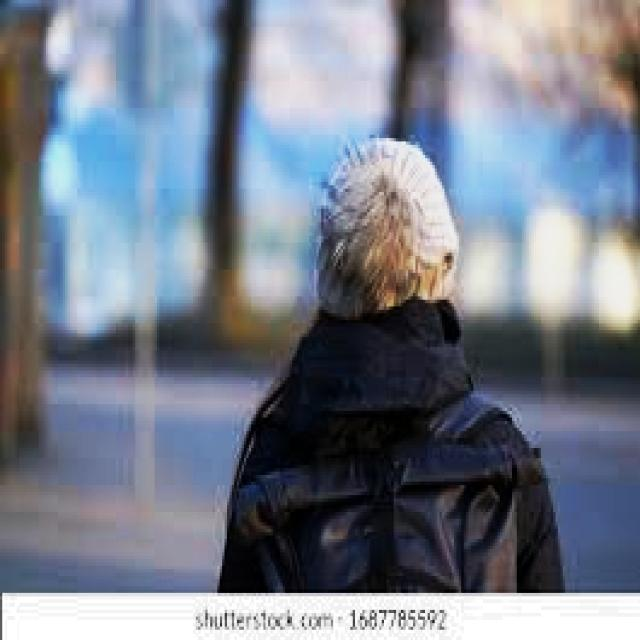TOPI: (309, 125, 461, 316)
